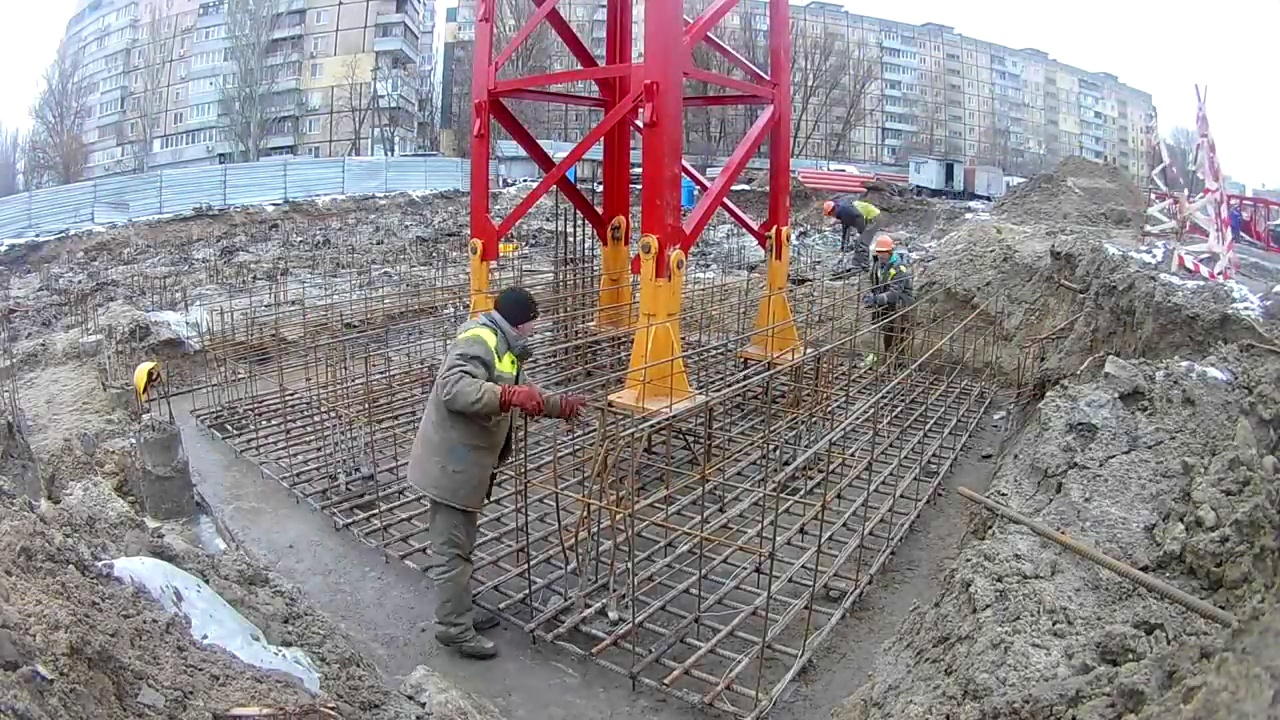helmet: (133, 361, 159, 403), (874, 235, 894, 253), (823, 201, 834, 217)
helmet-off: (482, 290, 538, 348)
helmet-on: (874, 235, 896, 268), (822, 198, 843, 219)
person: (403, 282, 588, 667), (865, 235, 914, 355), (822, 198, 880, 268)
